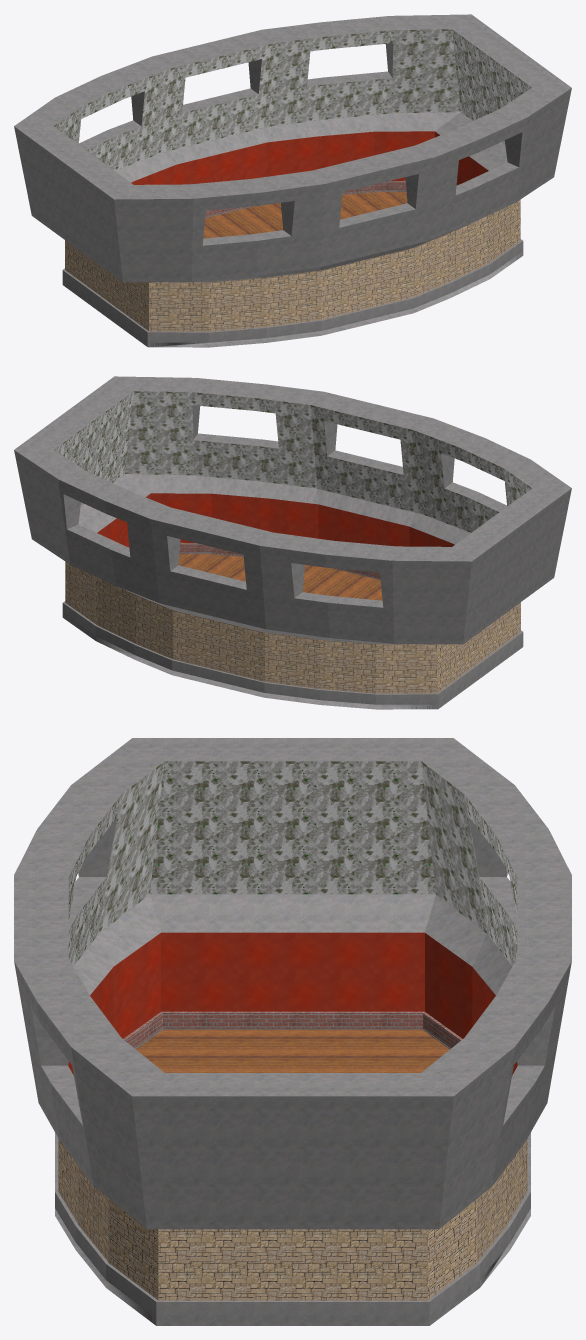
Rendered from Museum2.FBX.
3 renders of one model, top to bottom at view 1: azimuth 30°, elevation 25°; view 2: azimuth 150°, elevation 25°; view 3: azimuth 270°, elevation 25°, orthographic. The views are drawn at different scales.
Visible parts, largest first — view 1: Box003; view 2: Box003; view 3: Box003.
Boxes of the visible parts, left/top/right/bottom form: Box003: left=14, top=14, right=571, bottom=347; Box003: left=14, top=376, right=571, bottom=709; Box003: left=14, top=738, right=571, bottom=1325.
Size of the model in its own units: 75.72 by 25.81 by 49.84.
Materials: 7 (7 with a texture image).
